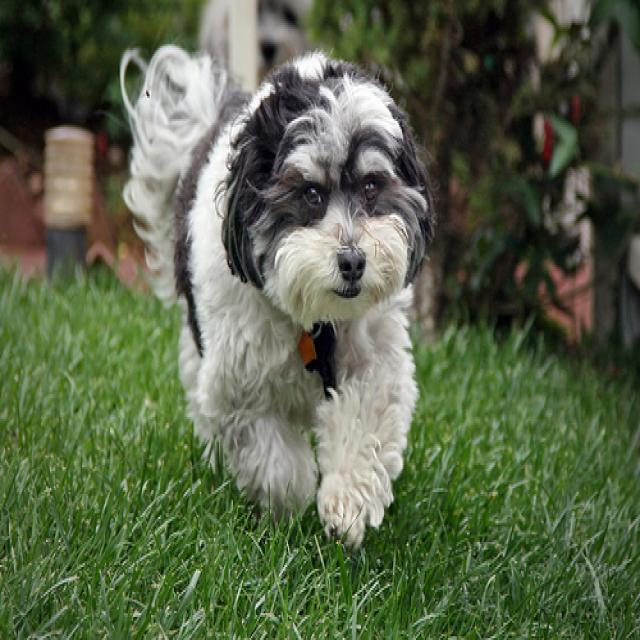dog: (220, 52, 434, 313)
